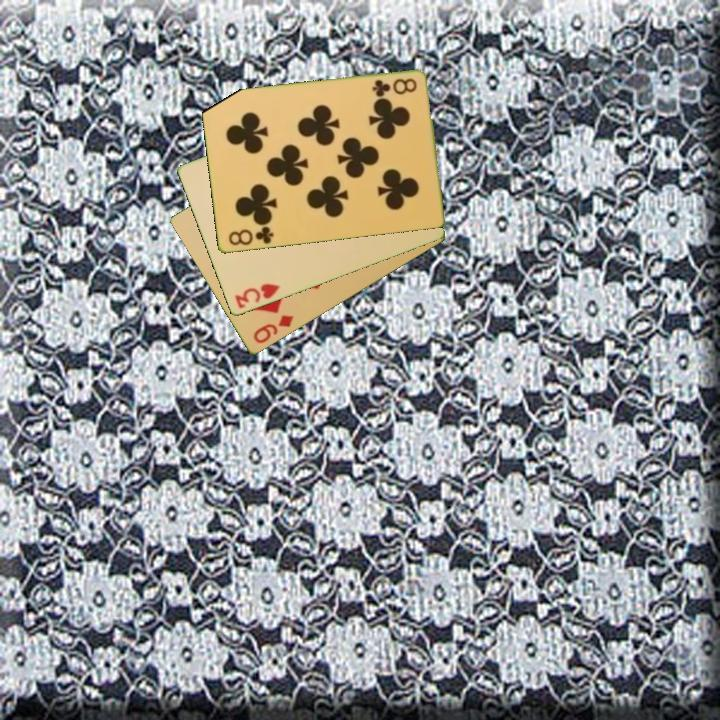3h: (231, 280, 283, 312)
8c: (225, 223, 276, 248), (368, 75, 419, 99)
9d: (250, 311, 297, 347)
